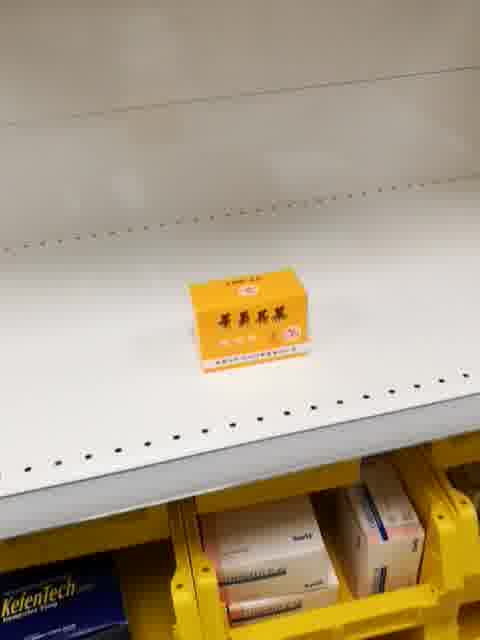jasminetea: (187, 267, 312, 374)
